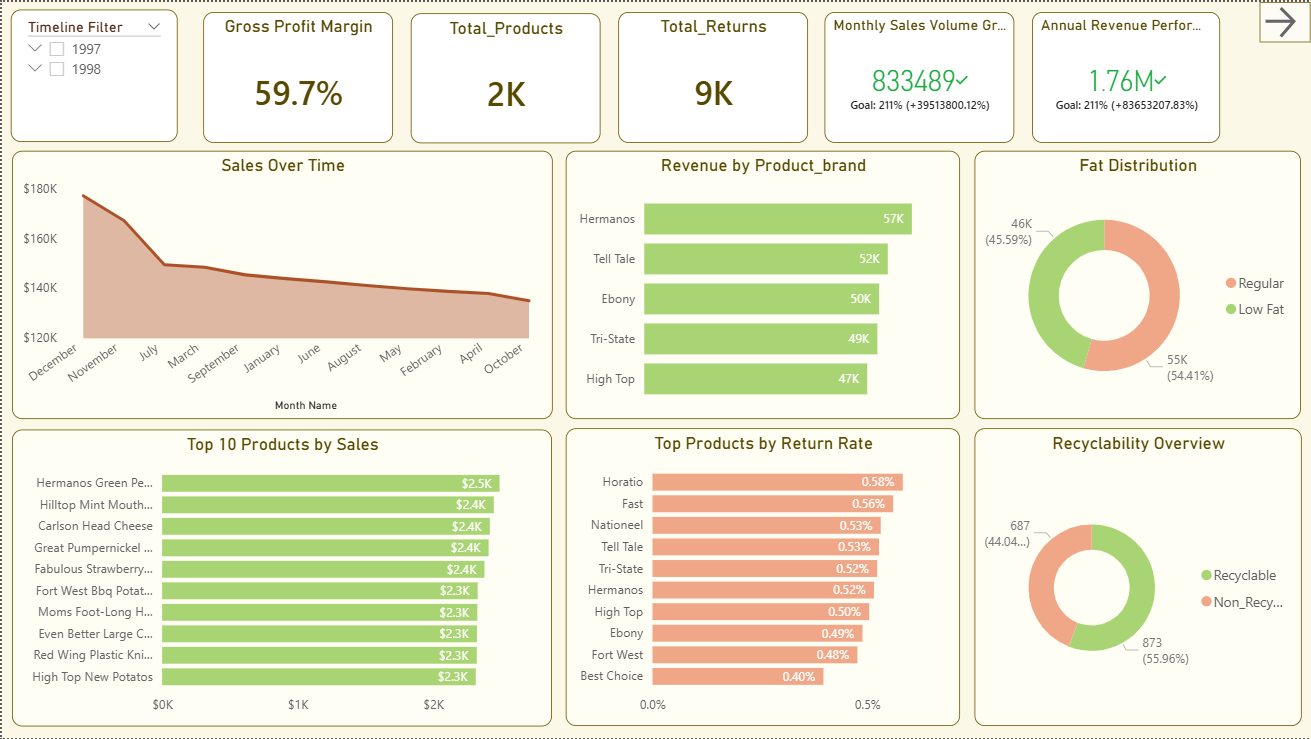

This screenshot's page, from the dashboard's own definition file:
{"tool":"powerbi","page":{"name":"Product Insights","canvas":[1280,720],"ordinal":3},"visuals":[{"type":"cardVisual","title":"Total_Products","fields":{"Data":["Dax_Measures.Total Products"]},"box":[399.6,10.5,185.2,127],"z":0,"group":"g1"},{"type":"clusteredBarChart","title":"Top 10 Products by Sales","fields":{"Category":["Dim_Products.product_name"],"Y":["Dax_Measures.Total Sales"]},"box":[10.2,418.1,528,290],"z":0},{"type":"clusteredBarChart","title":"Top Products by Return Rate","fields":{"Category":["Dim_Products.product_brand"],"Y":["Dax_Measures.Return Rate %"]},"box":[551.9,417.2,385.6,290.9],"z":1000},{"type":"donutChart","title":"Fat Distribution","fields":{"Category":["Dim_Products.Low_fat"],"Y":["Dax_Measures.Total Orders"]},"box":[951.1,145,319,262.1],"z":2000},{"type":"donutChart","title":"Recyclability Overview","fields":{"Category":["Dim_Products.recyclable"],"Y":["Dax_Measures.Total Products"]},"box":[950.8,417.2,319.7,290.9],"z":3000},{"type":"areaChart","title":"Sales Over Time","fields":{"Category":["Dim_Calendar.Month Name"],"Y":["Dax_Measures.Total Sales"]},"box":[9.8,145,528.8,262.5],"z":4000},{"type":"slicer","title":"Reporting Period","fields":{"Values":["Dim_Calendar.Year Hierarchy.Year","Dim_Calendar.Year Hierarchy.Quarter","Dim_Calendar.Year Hierarchy.Month","Dim_Calendar.Year Hierarchy.Day"]},"box":[8.9,7.7,163.1,129.3],"z":5000},{"type":"kpi","title":"Annual Revenue Performance","fields":{"Goal":["Dax_Measures.YoY Growth %"],"Indicator":["Sum(vw_Annual_Performance_Metrics.Total_Revenue)"],"TrendLine":["Dim_Calendar.Month"]},"box":[1007.7,9.3,184.1,128.1],"z":6000,"group":"g1"},{"type":"clusteredBarChart","title":"Revenue by Product_brand","fields":{"Y":["Sum(vw_Brand_Performance.Total_Revenue)"],"Category":["vw_Brand_Performance.Product_brand"]},"box":[551.9,145,385.6,262.1],"z":6000},{"type":"kpi","title":"Monthly Sales Volume Growth","fields":{"Indicator":["Sum(vw_Annual_Performance_Metrics.Total_units_sold)"],"TrendLine":["Dim_Calendar.Month"],"Goal":["Dax_Measures.YoY Growth %"]},"box":[805,9.3,185.2,128.1],"z":7000,"group":"g1"},{"type":"actionButton","box":[1229.9,0,50.1,39.6],"z":8000},{"type":"cardVisual","title":"Gross Profit Margin","fields":{"Data":["Dax_Measures.Gross Profit Margin %"]},"box":[196.9,9.3,185.2,128.1],"z":8000,"group":"g1"},{"type":"group","id":"g1","title":"Group 1","box":[196.9,9.3,994.8,128.1],"z":9000},{"type":"cardVisual","title":"Total_Returns","fields":{"Data":["Dax_Measures.Total Returns"]},"box":[602.3,9.3,185.2,128.1],"z":10000,"group":"g1"}]}

Visuals, with their boxes in screenshot pixels (x1, y1, x2, y2), scaled from the page's 1280x720 canvas onto the 1311x739 screenshot:
"Total_Products" cardVisual: {"left": 409, "top": 11, "right": 599, "bottom": 141}
"Top 10 Products by Sales" clusteredBarChart: {"left": 10, "top": 429, "right": 551, "bottom": 727}
"Top Products by Return Rate" clusteredBarChart: {"left": 565, "top": 428, "right": 960, "bottom": 727}
"Fat Distribution" donutChart: {"left": 974, "top": 149, "right": 1301, "bottom": 418}
"Recyclability Overview" donutChart: {"left": 974, "top": 428, "right": 1301, "bottom": 727}
"Sales Over Time" areaChart: {"left": 10, "top": 149, "right": 552, "bottom": 418}
"Reporting Period" slicer: {"left": 9, "top": 8, "right": 176, "bottom": 141}
"Annual Revenue Performance" kpi: {"left": 1032, "top": 10, "right": 1221, "bottom": 141}
"Revenue by Product_brand" clusteredBarChart: {"left": 565, "top": 149, "right": 960, "bottom": 418}
"Monthly Sales Volume Growth" kpi: {"left": 824, "top": 10, "right": 1014, "bottom": 141}
actionButton: {"left": 1260, "top": 0, "right": 1310, "bottom": 41}
"Gross Profit Margin" cardVisual: {"left": 202, "top": 10, "right": 391, "bottom": 141}
"Group 1" group: {"left": 202, "top": 10, "right": 1221, "bottom": 141}
"Total_Returns" cardVisual: {"left": 617, "top": 10, "right": 807, "bottom": 141}
